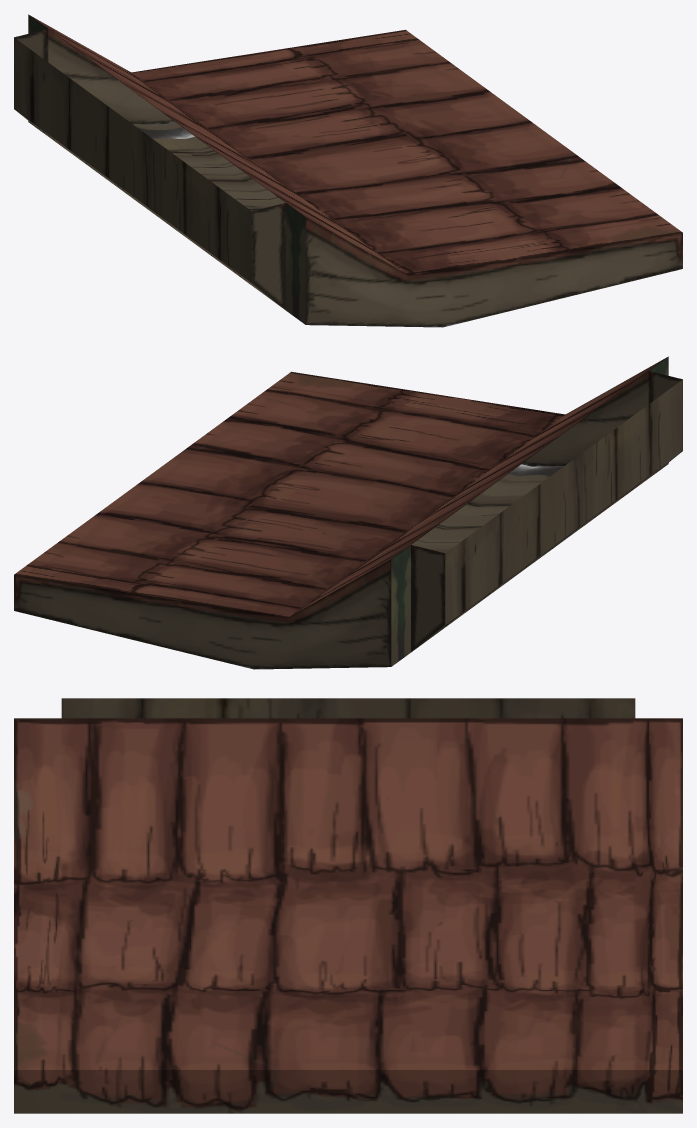
Rendered from ChTile_RoofShortFull.fbx.
3 views of the same model, one above another, from view 1: azimuth 30°, elevation 25°; view 2: azimuth 150°, elevation 25°; view 3: azimuth 270°, elevation 25° (orthographic). The views are drawn at different scales.
Parts seen in each view (by area): view 1: pCube925; view 2: pCube925; view 3: pCube925.
Boxes of the visible parts, x1,y1,x2,y2 form: pCube925: [14, 14, 682, 327]; pCube925: [14, 356, 682, 669]; pCube925: [14, 698, 682, 1113].
Bounding box in the file's own units: 12 × 4 × 14.
